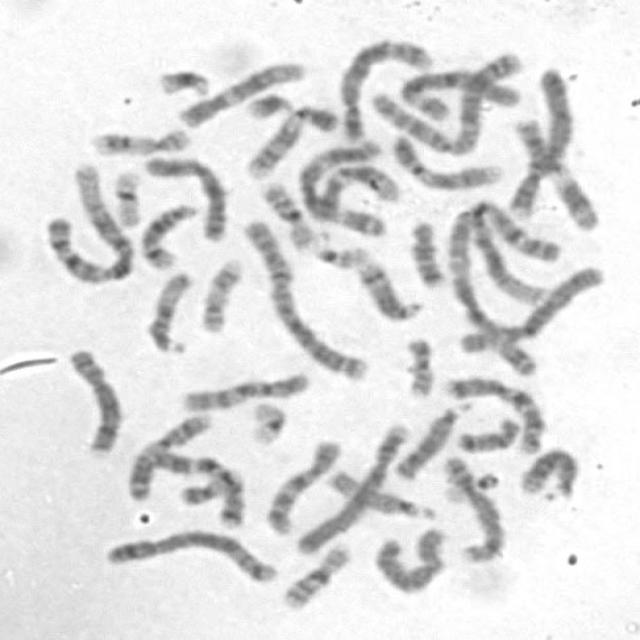A1: (442, 198, 546, 381), (35, 158, 141, 286)
A2: (236, 213, 370, 382), (373, 46, 524, 157)
A3: (443, 199, 545, 380), (294, 134, 388, 238)
B4: (290, 417, 414, 557), (501, 62, 578, 222)
B5: (333, 35, 436, 142), (99, 525, 280, 585)
C10: (259, 434, 344, 536), (174, 366, 313, 414)
C11: (508, 112, 606, 234), (121, 407, 216, 502)
C12: (174, 55, 308, 129), (300, 160, 400, 220)
C6: (454, 260, 610, 355), (395, 61, 524, 116)
C7: (439, 369, 549, 456), (142, 444, 246, 529)
C8: (438, 449, 508, 564), (60, 342, 126, 457)
C9: (238, 98, 342, 180), (386, 131, 504, 191)
D13: (390, 397, 475, 482), (514, 442, 584, 501)
D14: (350, 254, 426, 323), (134, 198, 202, 272)
D15: (321, 464, 440, 521), (140, 264, 198, 356)
E16: (277, 537, 354, 611), (256, 176, 318, 251)
E17: (195, 252, 245, 334), (85, 122, 194, 158)
E18: (404, 214, 449, 289), (452, 412, 522, 454)
F19: (107, 164, 145, 228), (243, 396, 290, 447)
F20: (175, 465, 244, 507), (400, 332, 438, 399)
G21: (152, 62, 214, 98), (240, 86, 296, 121)
G22: (307, 229, 371, 270), (438, 466, 502, 504)
X: (137, 149, 232, 243), (367, 520, 449, 596)
